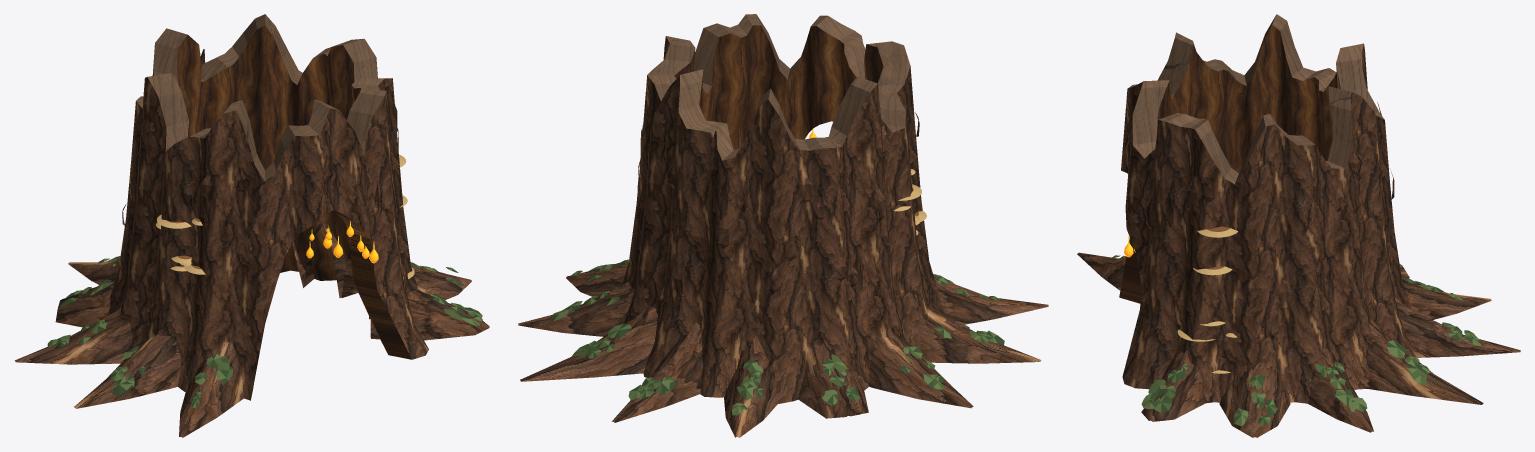
3 renders of one model, left to right at view 1: azimuth 30°, elevation 25°; view 2: azimuth 150°, elevation 25°; view 3: azimuth 270°, elevation 25°, orthographic. The views are drawn at different scales.
Visible parts, largest first — view 1: hollow-stump-gate · evaluated preview mesh; view 2: hollow-stump-gate · evaluated preview mesh; view 3: hollow-stump-gate · evaluated preview mesh.
Boxes of the visible parts, x1=… form: hollow-stump-gate · evaluated preview mesh: x1=15, y1=14, x2=489, y2=437; hollow-stump-gate · evaluated preview mesh: x1=518, y1=14, x2=1048, y2=437; hollow-stump-gate · evaluated preview mesh: x1=1077, y1=14, x2=1520, y2=437.
Bounding box in the file's own units: 28.36 × 17.28 × 25.48.
11 materials, 5 textured.
